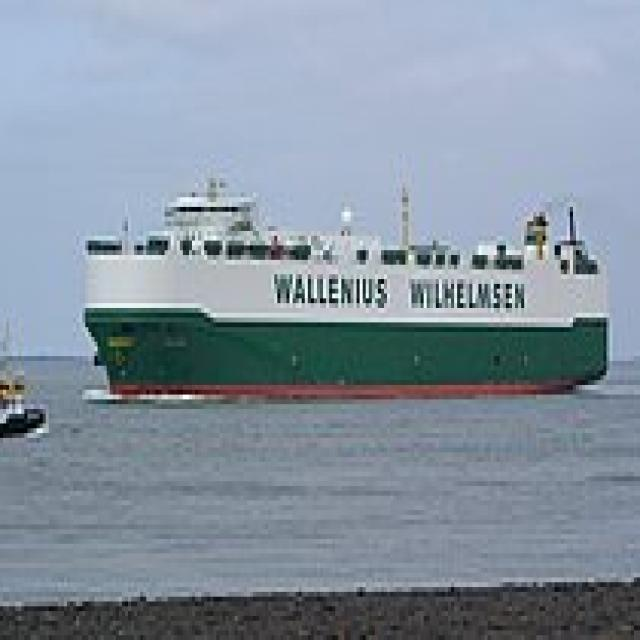Carrier: (76, 154, 610, 395)
